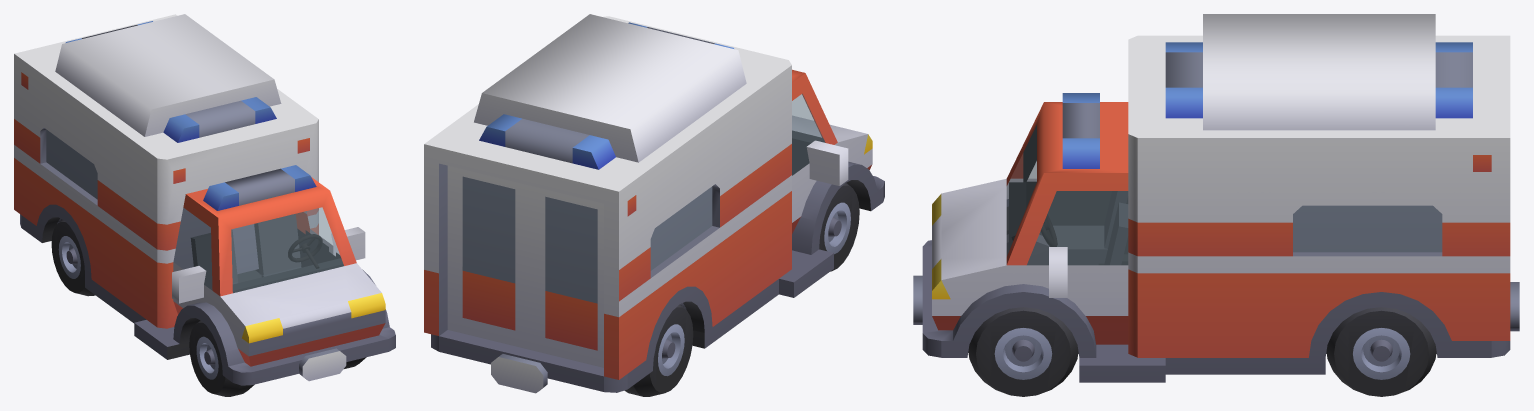
Rendered from ambulance.glb.
The picture shows the model from 3 angles, left to right: view 1: azimuth 30°, elevation 25°; view 2: azimuth 150°, elevation 25°; view 3: azimuth 270°, elevation 25°; orthographic projection. The views are drawn at different scales.
Visible parts, largest first — view 1: body, glass, interior, door-front-right-panel, wheel-front-right, door-front-right-glass, wheel-back-right, steering-wheel, door-front-left-glass; view 2: body, glass, wheel-back-right, door-front-right-panel, wheel-front-right, door-front-right-glass, interior; view 3: body, door-front-left-panel, glass, wheel-back-left, wheel-front-left, interior, door-front-left-glass, door-front-right-trim, wheel-front-right.
Part boxes in pixels (<box>): body: <box>14,14,395,385</box>; glass: <box>46,130,343,292</box>; interior: <box>191,214,343,292</box>; door-front-right-panel: <box>153,208,219,335</box>; wheel-front-right: <box>189,320,254,396</box>; door-front-right-glass: <box>173,208,212,290</box>; wheel-back-right: <box>51,219,95,296</box>; steering-wheel: <box>288,234,322,268</box>; door-front-left-glass: <box>307,208,332,244</box>; body: <box>424,14,884,393</box>; glass: <box>463,94,821,303</box>; wheel-back-right: <box>624,304,693,396</box>; door-front-right-panel: <box>787,87,848,263</box>; wheel-front-right: <box>819,183,859,271</box>; door-front-right-glass: <box>792,94,825,175</box>; interior: <box>462,130,825,269</box>; body: <box>913,14,1519,382</box>; door-front-left-panel: <box>1023,191,1146,348</box>; glass: <box>1007,125,1441,255</box>; wheel-back-left: <box>1326,307,1436,396</box>; wheel-front-left: <box>968,307,1078,396</box>; interior: <box>1009,182,1436,353</box>; door-front-left-glass: <box>1027,191,1127,264</box>; door-front-right-trim: <box>1023,125,1128,261</box>; wheel-front-right: <box>1006,234,1049,265</box>.
Bounding box in the file's own units: 2.48 × 2.97 × 5.36.
Materials: 3 (1 with a texture image).
